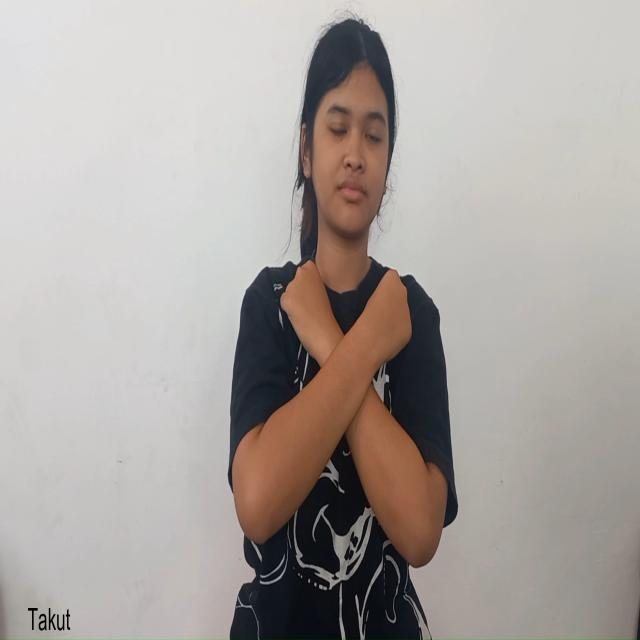Takut -BISINDO-: (278, 261, 425, 516)
